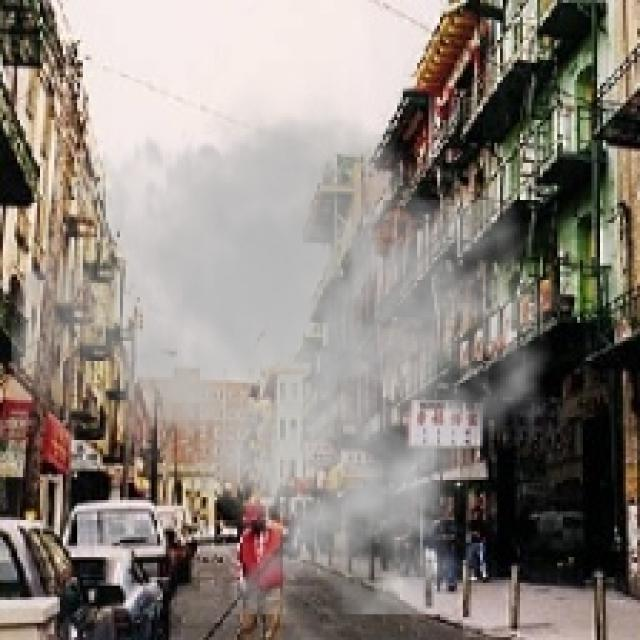smoke: (9, 63, 568, 614)
